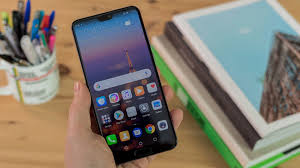huawei: (67, 1, 178, 167)
